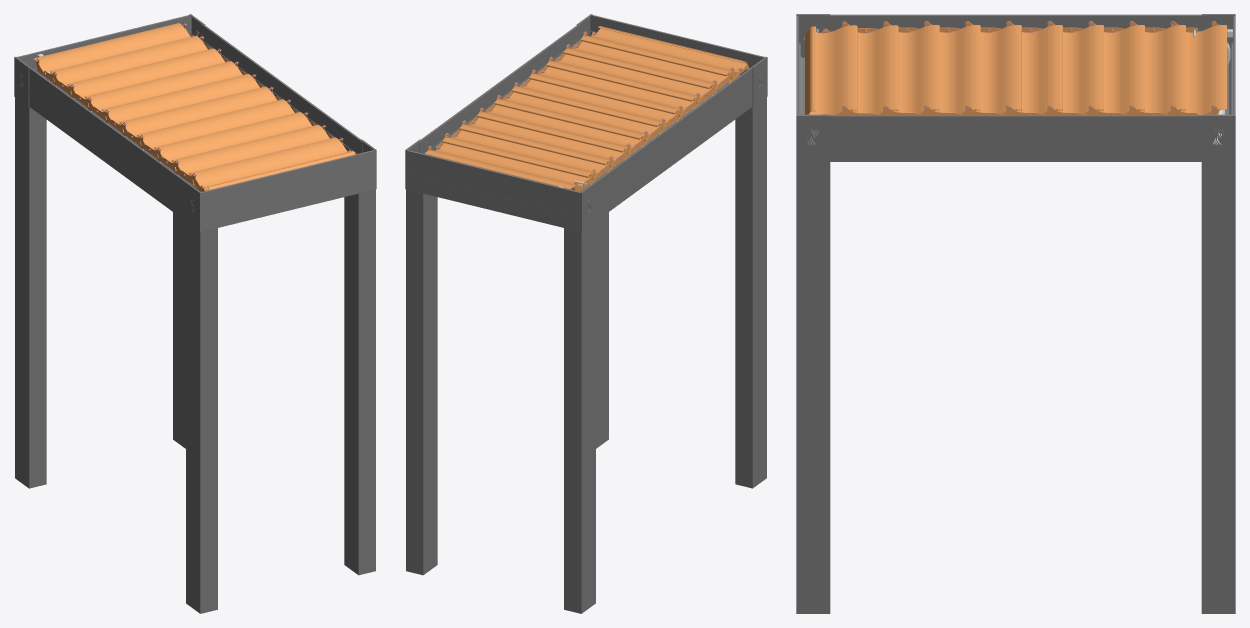
File: Gold bıo str 3D.glb
3 views of the same model, side by side, from view 1: azimuth 30°, elevation 25°; view 2: azimuth 150°, elevation 25°; view 3: azimuth 270°, elevation 25° (orthographic). The views are drawn at different scales.
Parts seen in each view (by area): view 1: Geom3D_ (×16), Geom3D_Kutu kapak (×7), Geom3D (×6); view 2: Geom3D_ (×16), Geom3D_Kutu kapak (×7), Geom3D (×6); view 3: Geom3D_ (×16), Geom3D (×3), Geom3D_Kutu kapak (×4).
Part boxes in pixels (x1=…): Geom3D_ (×16): x1=14, y1=23, x2=355, y2=611; Geom3D_Kutu kapak (×7): x1=15, y1=97, x2=375, y2=613; Geom3D (×6): x1=17, y1=15, x2=376, y2=231; Geom3D_ (×16): x1=425, y1=26, x2=767, y2=611; Geom3D_Kutu kapak (×7): x1=406, y1=97, x2=766, y2=613; Geom3D (×6): x1=406, y1=15, x2=764, y2=232; Geom3D_ (×16): x1=796, y1=14, x2=1235, y2=613; Geom3D (×3): x1=824, y1=14, x2=1235, y2=144; Geom3D_Kutu kapak (×4): x1=796, y1=162, x2=1235, y2=613.
Bounding box in the file's own units: 1.21 × 2.77 × 2.2.
